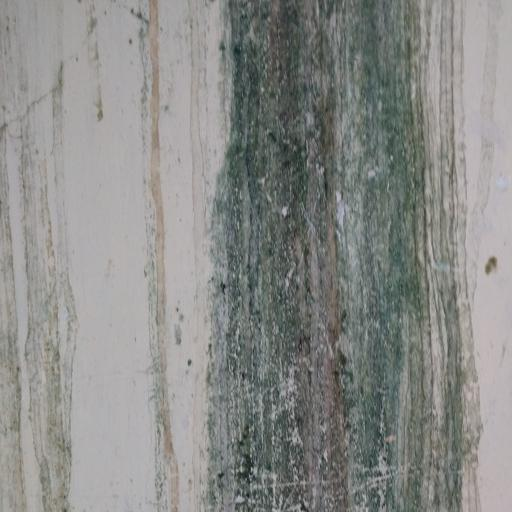algae: (177, 0, 512, 512)
